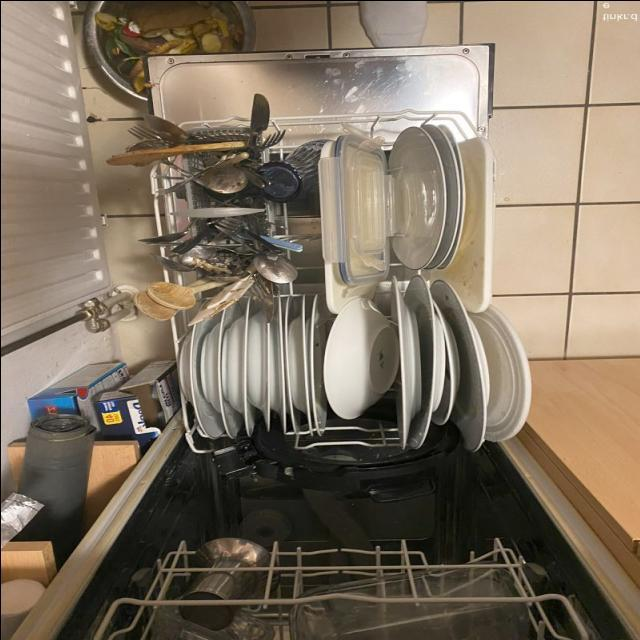clutery_bin: (136, 125, 291, 303)
